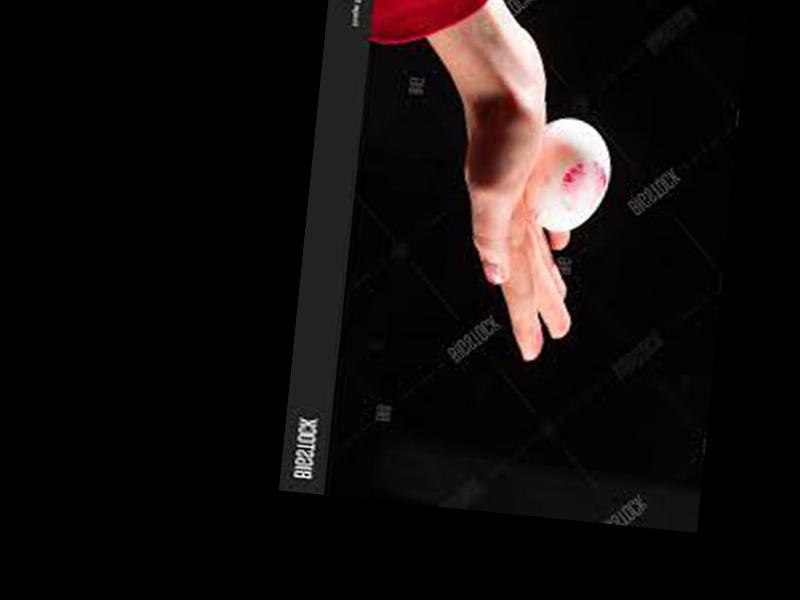Eggs: (529, 113, 616, 232)
